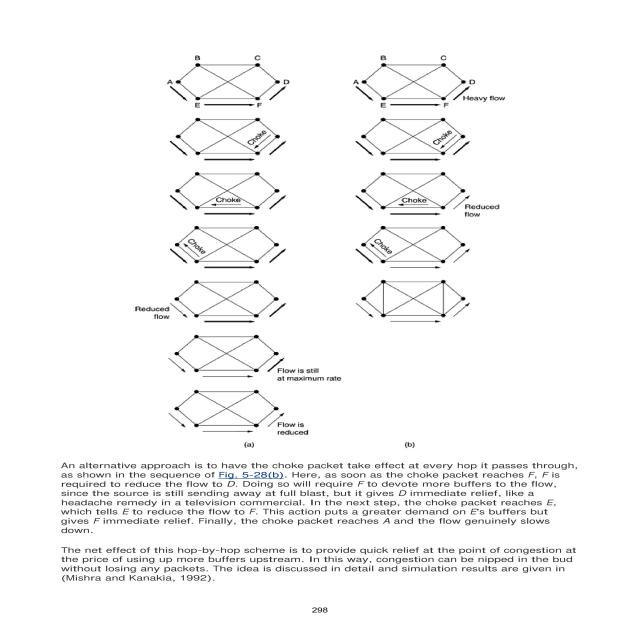diagram: (132, 46, 594, 456)
